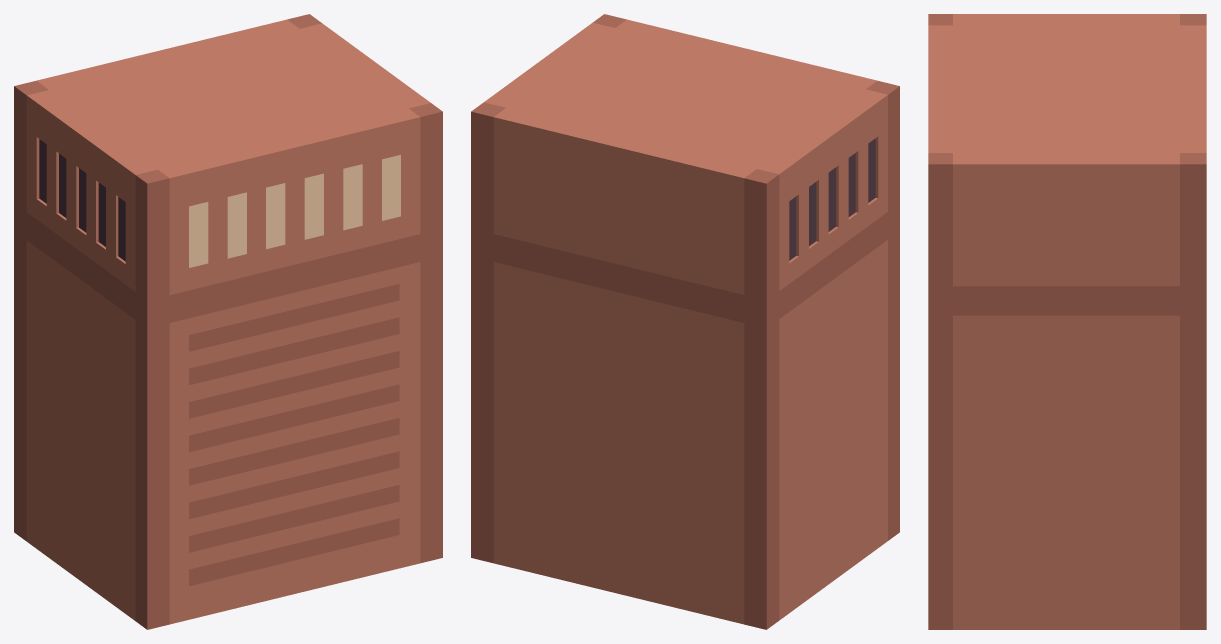
The picture shows the model from 3 angles, left to right: view 1: azimuth 30°, elevation 25°; view 2: azimuth 150°, elevation 25°; view 3: azimuth 270°, elevation 25°; orthographic projection. The views are drawn at different scales.
Visible parts, largest first — view 1: Cube.003; view 2: Cube.003; view 3: Cube.003.
Part boxes in pixels (x1,y1,x2,y2): Cube.003: (14, 14, 442, 629); Cube.003: (471, 14, 899, 629); Cube.003: (928, 14, 1206, 629).
Size of the model in its own units: 2020 by 2915 by 1579.
